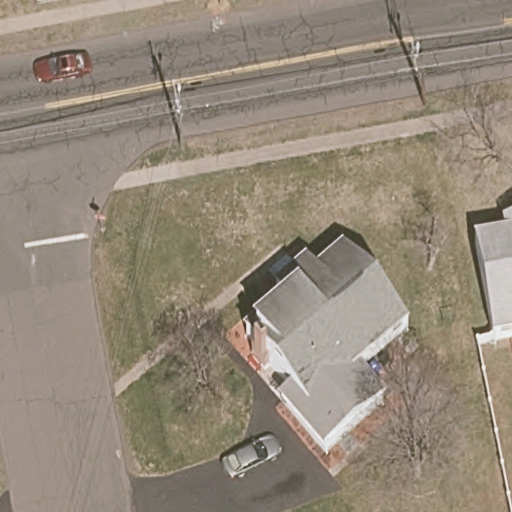DT: (168, 78, 189, 153), (406, 35, 428, 100)
